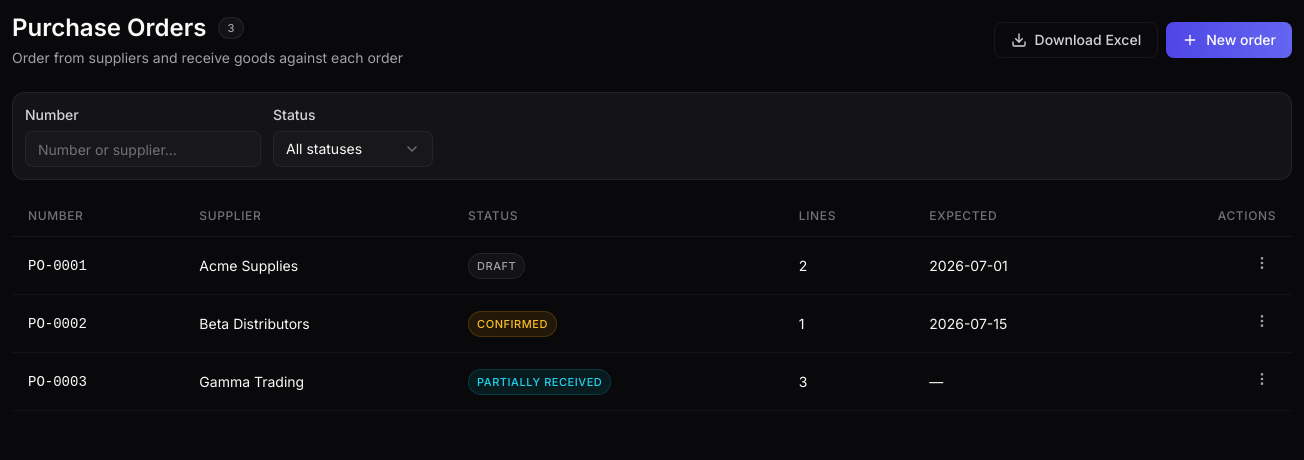
Test: PurchaseOrderList row actions by status › PARTIALLY_RECEIVED row exposes Receive only (no Confirm/Cancel/Delete)
Click the button with test id "po-actions-po-003": point(1262, 379) x1=1248 y1=365 x2=1276 y2=393
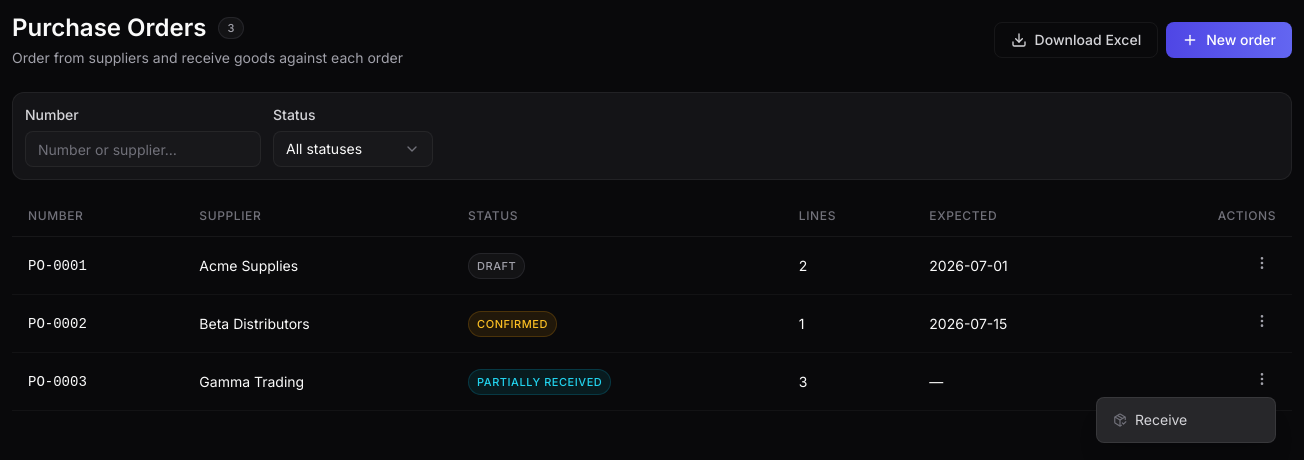
expect the text "Receive" is shown: met, box x1=1135 y1=410 x2=1187 y2=430
